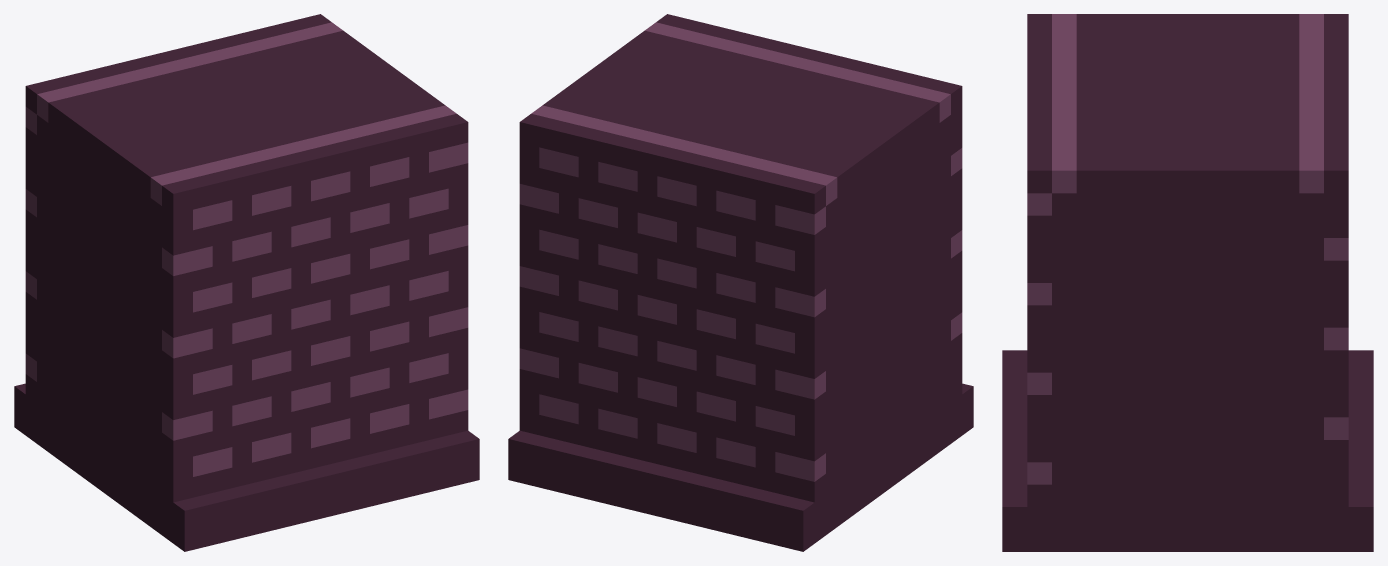
File: dungeon_c_a_inner_wall_segment_a.obj
3 views of the same model, side by side, from view 1: azimuth 30°, elevation 25°; view 2: azimuth 150°, elevation 25°; view 3: azimuth 270°, elevation 25° (orthographic). The views are drawn at different scales.
Size of the model in its own units: 1.5 by 1.7 by 1.5.
Materials: 1 (1 with a texture image).
